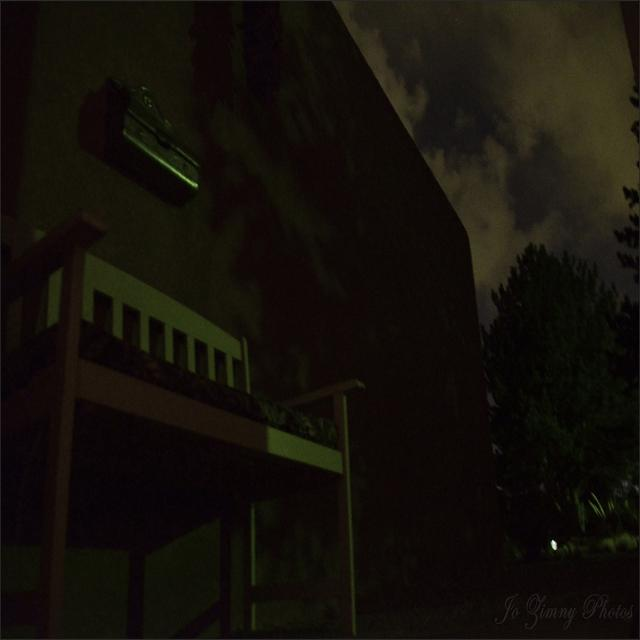chair: (23, 194, 386, 640)
